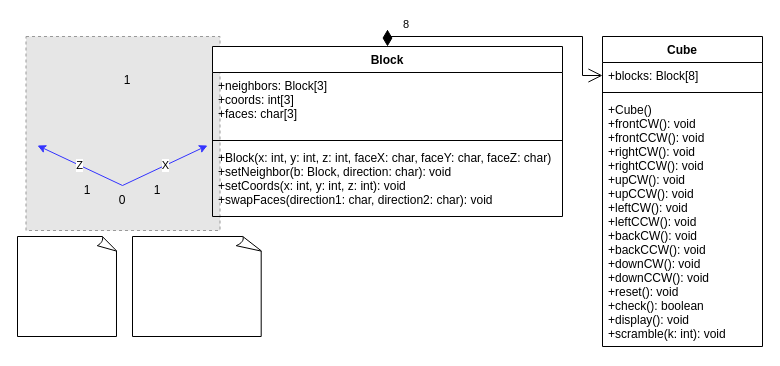
This 780x366 diagram has some shape labels left out. Grey dashed boxes stand in for pictures. Here are the shapes that lost their labels. From the top down, the centre of each, then its label:
At point 67,286: "Colors: Red- Purple White- Yellow Blue- Green".
At point 197,286: "Coord System Ex: the Red-White-Blue block would be (0,1,0)".
